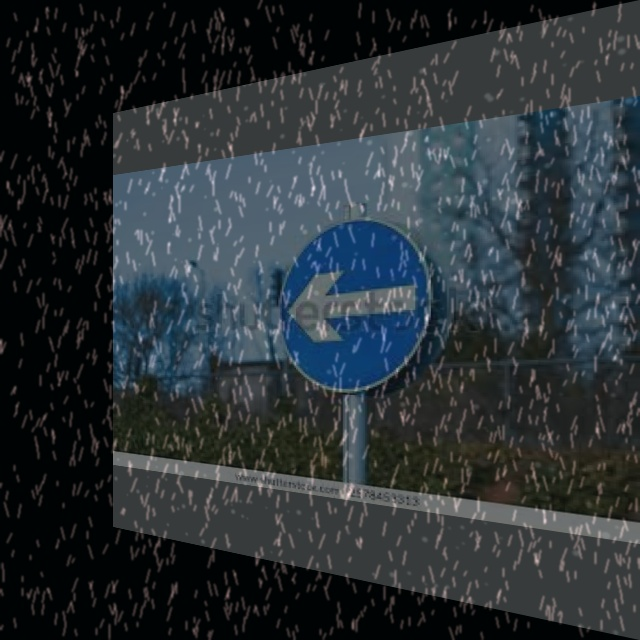Compulsory_Turn_Left: (278, 210, 444, 405)
